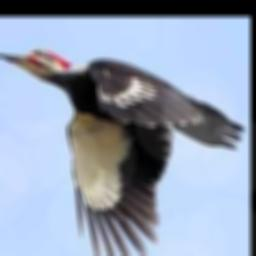Woodpecker: (0, 49, 245, 256)
